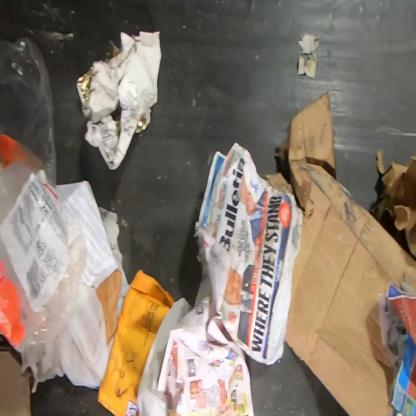cardboard: (265, 90, 415, 415), (371, 148, 416, 264), (0, 350, 32, 415)
soft_plastic: (0, 35, 90, 352)
